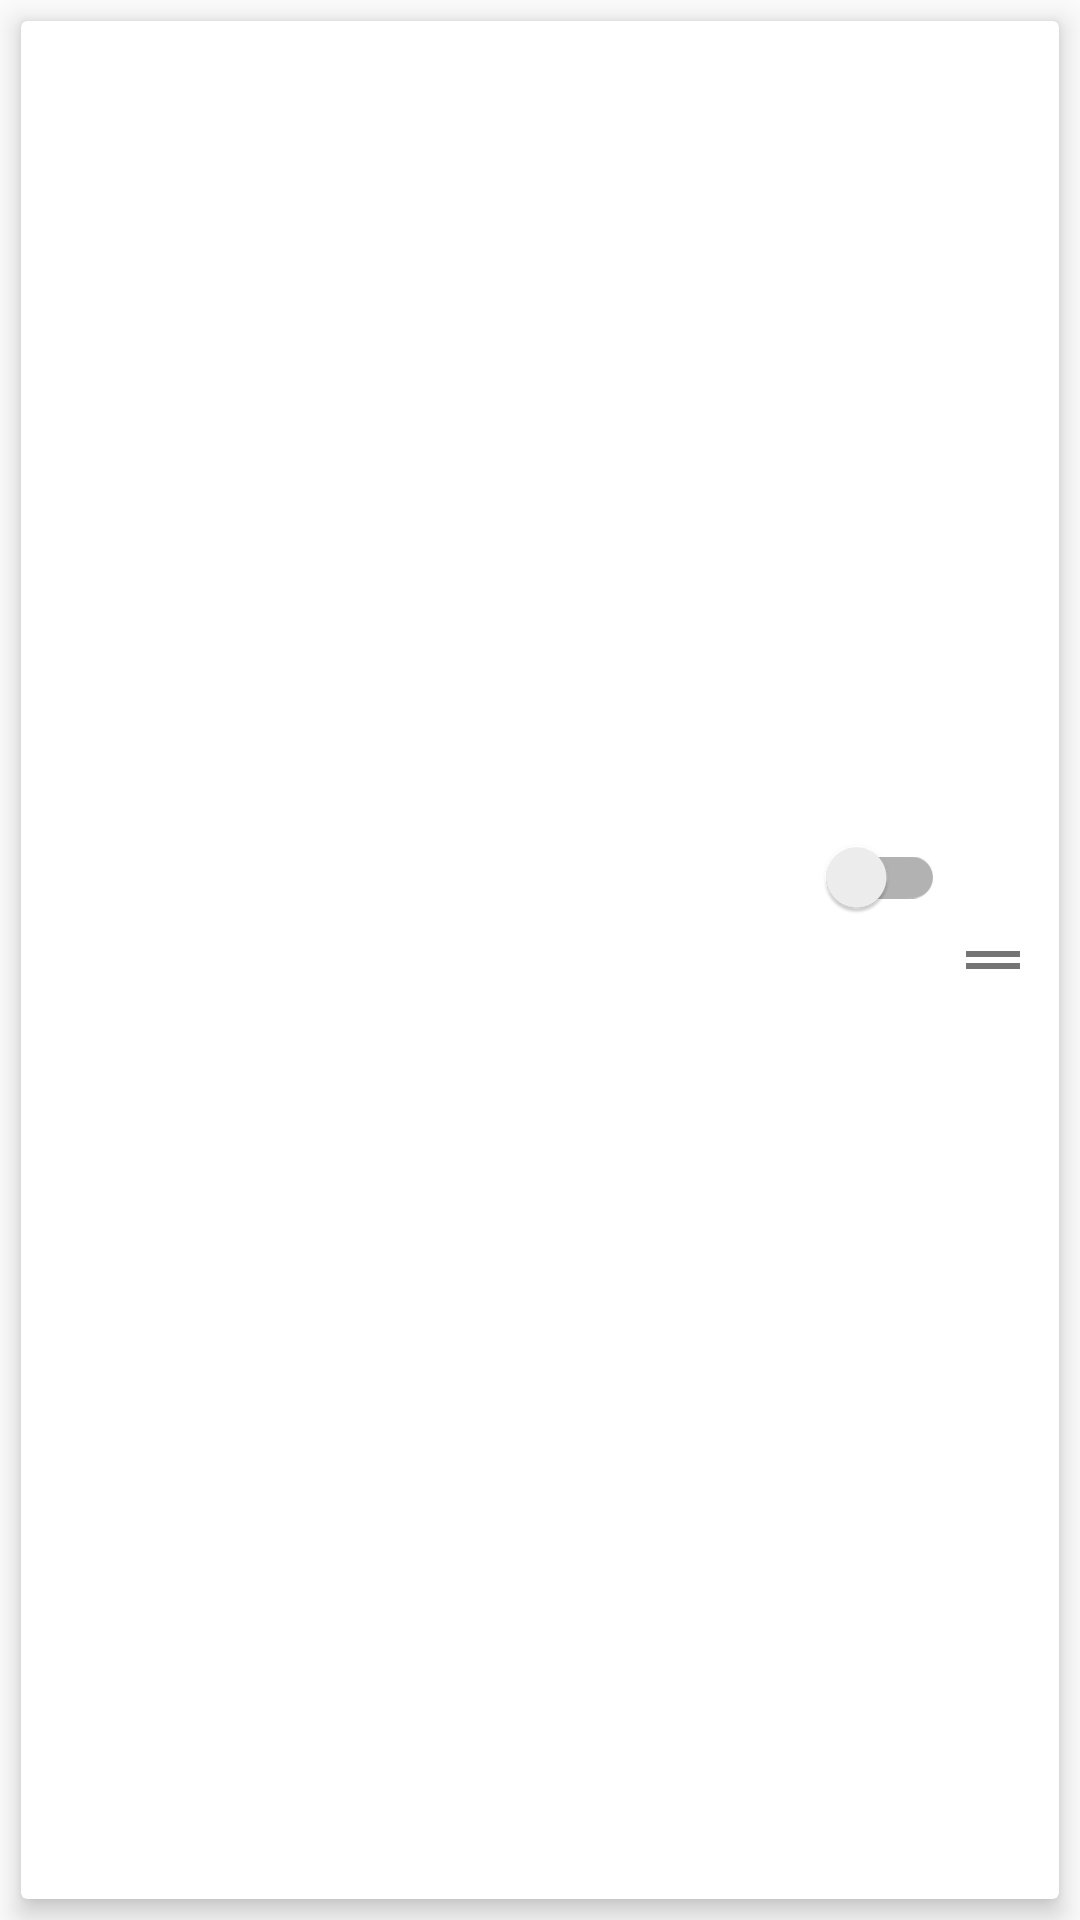

Named icons in this screenshot (1080 x 1920) and their centers, (x=x, y=y):
Long press and drag to reorder pictures: (x=993, y=960)
